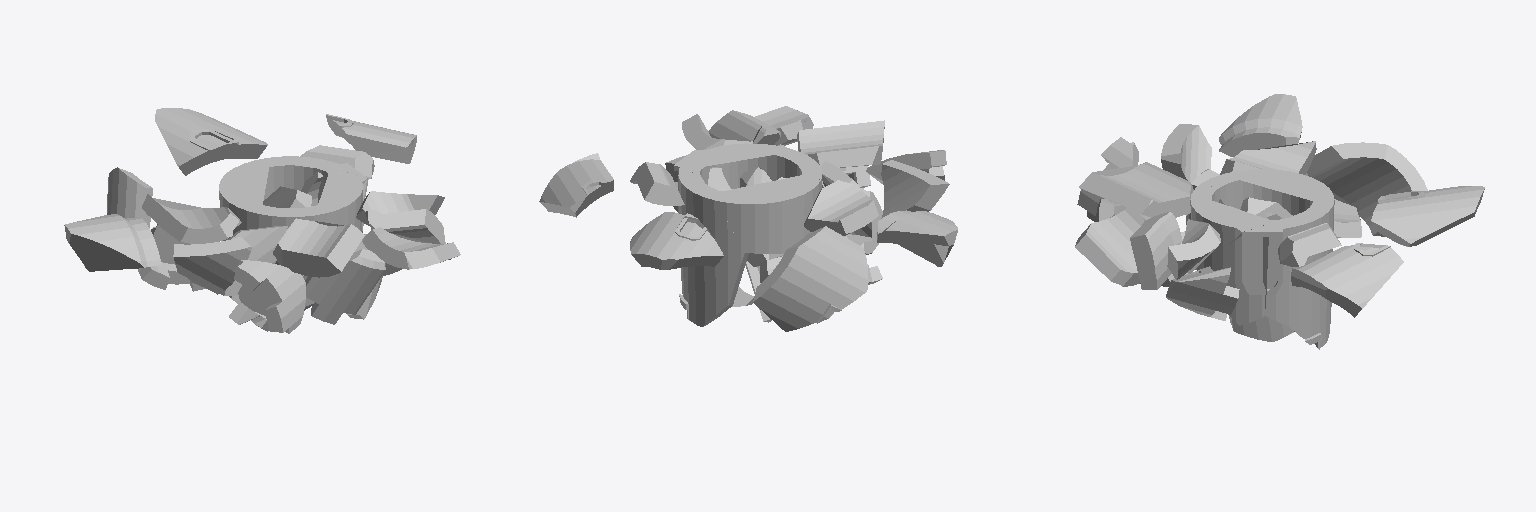
The model's file is destruction_tower_000060.obj.
The picture shows the model from 3 angles: view 1: azimuth 30°, elevation 25°; view 2: azimuth 150°, elevation 25°; view 3: azimuth 270°, elevation 25°; orthographic projection.
Parts seen in each view (by area): view 1: tower.001_cell.025_Mesh.025, tower.001_cell.005_Mesh.005, tower.001_cell.024_Mesh.024, tower.001_cell.006_Mesh.006, tower.001_cell.011_Mesh.011, tower.001_cell.009_Mesh.009, tower.001_cell.002_Mesh.002, tower.001_cell.028_Mesh.028, tower.001_cell.012_Mesh.012, tower.001_cell.021_Mesh.021, tower.001_cell.015_Mesh.015, tower.001_cell_Mesh (+8 smaller); view 2: tower.001_cell.003_Mesh.003, tower.001_cell.015_Mesh.015, tower.001_cell.017_Mesh.017, tower.001_cell.025_Mesh.025, tower.001_cell.024_Mesh.024, tower.001_cell.005_Mesh.005, tower.001_cell.028_Mesh.028, tower.001_cell.012_Mesh.012, tower.001_cell.009_Mesh.009, tower.001_cell.002_Mesh.002, tower.001_cell_Mesh, tower.001_cell.016_Mesh.016 (+5 smaller); view 3: tower.001_cell.003_Mesh.003, tower.001_cell.012_Mesh.012, tower.001_cell.025_Mesh.025, tower.001_cell.024_Mesh.024, tower.001_cell.020_Mesh.020, tower.001_cell.005_Mesh.005, tower.001_cell.017_Mesh.017, tower.001_cell.021_Mesh.021, tower.001_cell.015_Mesh.015, tower.001_cell.030_Mesh.030, tower.001_cell_Mesh, tower.001_cell.028_Mesh.028 (+10 smaller).
Boxes of the visible parts, <box> form: tower.001_cell.025_Mesh.025: <box>155,108,267,175</box>; tower.001_cell.005_Mesh.005: <box>64,214,161,271</box>; tower.001_cell.024_Mesh.024: <box>273,218,364,277</box>; tower.001_cell.006_Mesh.006: <box>233,260,305,333</box>; tower.001_cell.011_Mesh.011: <box>305,249,385,324</box>; tower.001_cell.009_Mesh.009: <box>142,194,241,243</box>; tower.001_cell.002_Mesh.002: <box>173,237,251,294</box>; tower.001_cell.028_Mesh.028: <box>287,173,367,229</box>; tower.001_cell.012_Mesh.012: <box>326,114,416,163</box>; tower.001_cell.021_Mesh.021: <box>362,227,460,269</box>; tower.001_cell.015_Mesh.015: <box>219,161,268,240</box>; tower.001_cell_Mesh: <box>365,209,445,243</box>; tower.001_cell.003_Mesh.003: <box>753,226,868,331</box>; tower.001_cell.015_Mesh.015: <box>717,175,820,253</box>; tower.001_cell.017_Mesh.017: <box>678,169,748,326</box>; tower.001_cell.025_Mesh.025: <box>630,212,723,269</box>; tower.001_cell.024_Mesh.024: <box>797,120,884,170</box>; tower.001_cell.005_Mesh.005: <box>877,210,957,266</box>; tower.001_cell.028_Mesh.028: <box>694,143,810,188</box>; tower.001_cell.012_Mesh.012: <box>539,153,613,217</box>; tower.001_cell.009_Mesh.009: <box>804,180,878,235</box>; tower.001_cell.002_Mesh.002: <box>881,160,949,218</box>; tower.001_cell_Mesh: <box>708,110,780,144</box>; tower.001_cell.016_Mesh.016: <box>630,162,684,205</box>; tower.001_cell.003_Mesh.003: <box>1307,142,1427,236</box>; tower.001_cell.012_Mesh.012: <box>1291,243,1403,317</box>; tower.001_cell.025_Mesh.025: <box>1371,186,1484,246</box>; tower.001_cell.024_Mesh.024: <box>1079,162,1193,217</box>; tower.001_cell.020_Mesh.020: <box>1204,227,1268,325</box>; tower.001_cell.005_Mesh.005: <box>1219,94,1302,156</box>; tower.001_cell.017_Mesh.017: <box>1289,198,1334,349</box>; tower.001_cell.021_Mesh.021: <box>1075,205,1145,286</box>; tower.001_cell.015_Mesh.015: <box>1239,169,1333,215</box>; tower.001_cell.030_Mesh.030: <box>1166,266,1239,320</box>; tower.001_cell_Mesh: <box>1130,212,1181,289</box>; tower.001_cell.028_Mesh.028: <box>1190,185,1268,270</box>.
Size of the model in its own units: 129 by 47.39 by 122.